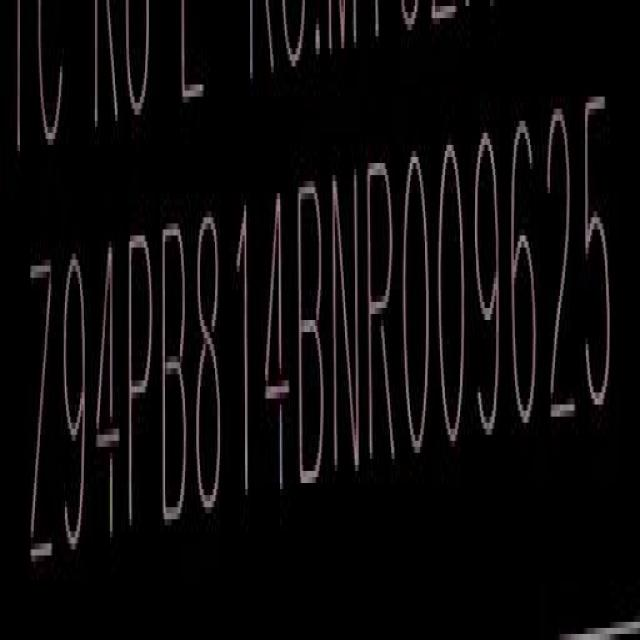0: (402, 143, 433, 461), (437, 139, 467, 451)
1: (236, 197, 254, 510)
2: (548, 102, 578, 430)
4: (262, 178, 294, 496), (96, 244, 124, 554)
5: (584, 80, 616, 418)
6: (507, 107, 543, 443)
8: (195, 210, 226, 518)
9: (472, 127, 503, 440), (62, 250, 89, 560)
B: (160, 211, 191, 532), (299, 175, 328, 491)
N: (330, 165, 360, 477)
P: (129, 224, 157, 542)
R: (367, 157, 398, 468)
Z: (31, 252, 56, 579)
